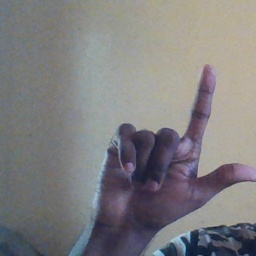L: (91, 65, 256, 230)
